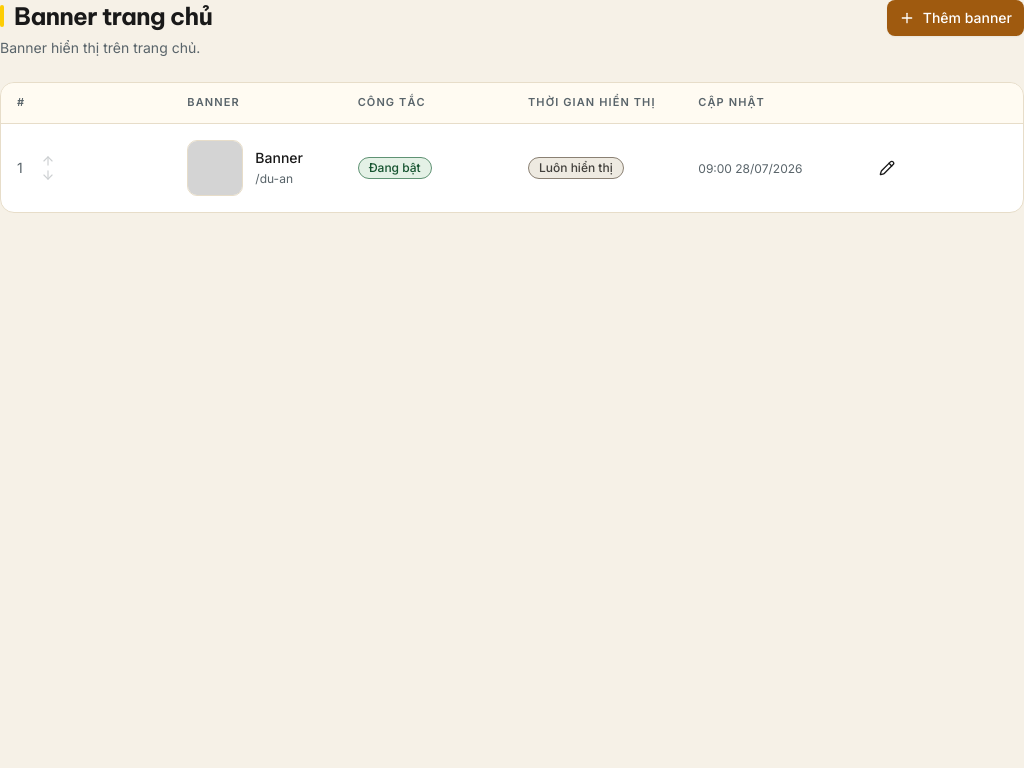
Test: Form banner — phần “Thời gian hiển thị” › dùng từ vựng hiển thị, KHÔNG dùng từ vựng xuất bản
Click the button named "Sửa banner". click: (887, 168)
box: [869,152,905,184]
(page scrolled)
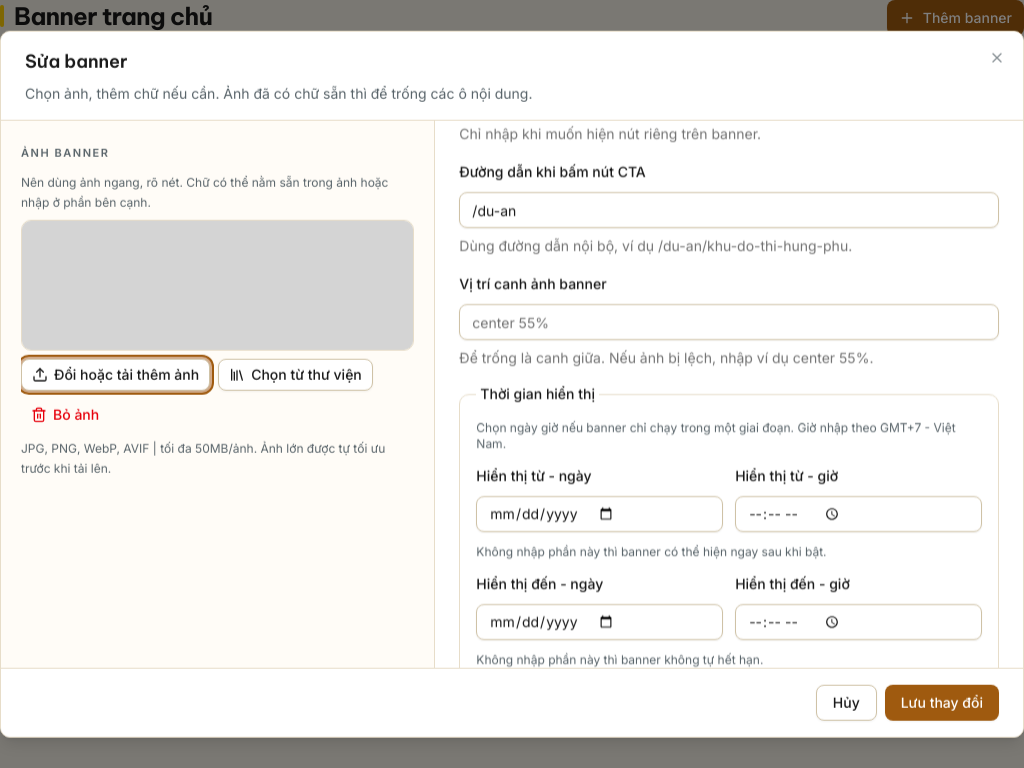
Expected: the text "Thời gian hiển thị" is shown, [476,384,599,404]
